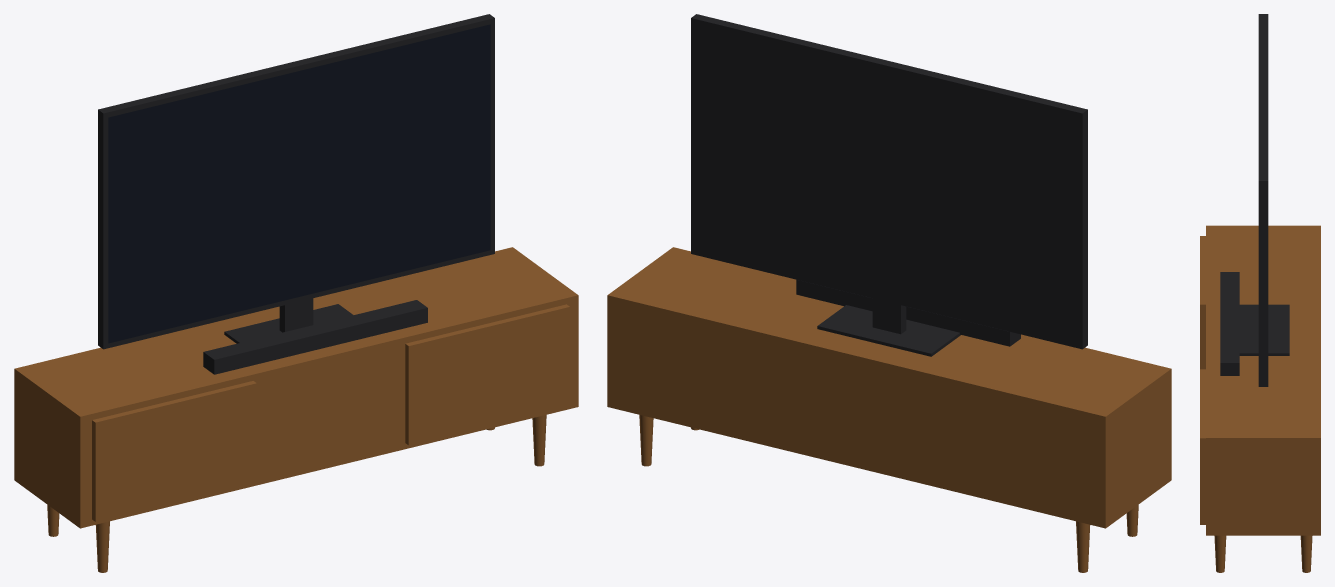
Rendered from tv-cabinet.glb.
3 renders of one model, left to right at view 1: azimuth 30°, elevation 25°; view 2: azimuth 150°, elevation 25°; view 3: azimuth 270°, elevation 25°, orthographic. The views are drawn at different scales.
Parts seen in each view (by area): view 1: accessory_tv, cabinet_body, accessory_door_right, accessory_door_left, TvCabinet, accessory_soundbar; view 2: TvCabinet, cabinet_body, accessory_soundbar; view 3: cabinet_body, TvCabinet, accessory_soundbar, accessory_door_right, accessory_door_left.
Boxes of the visible parts, bbox=[...] form: accessory_tv: bbox=[108, 24, 490, 343]; cabinet_body: bbox=[14, 247, 578, 528]; accessory_door_right: bbox=[405, 304, 569, 445]; accessory_door_left: bbox=[92, 381, 256, 521]; TvCabinet: bbox=[47, 14, 546, 572]; accessory_soundbar: bbox=[203, 300, 427, 374]; TvCabinet: bbox=[639, 14, 1138, 572]; cabinet_body: bbox=[607, 247, 1171, 528]; accessory_soundbar: bbox=[796, 279, 1020, 346]; cabinet_body: bbox=[1206, 225, 1320, 535]; TvCabinet: bbox=[1214, 14, 1312, 572]; accessory_soundbar: bbox=[1220, 272, 1239, 375]; accessory_door_right: bbox=[1200, 369, 1205, 524]; accessory_door_left: bbox=[1200, 236, 1205, 369].
Size of the model in its own units: 2.1 by 1.75 by 0.505.
